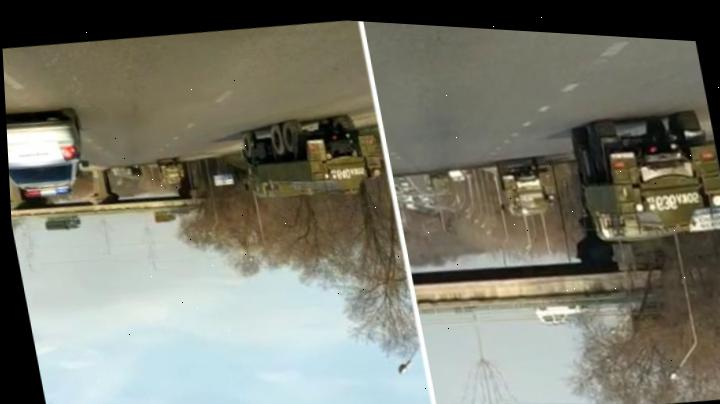car: (5, 104, 84, 202), (531, 296, 589, 329)
truck: (564, 107, 720, 248), (228, 97, 393, 213), (487, 154, 558, 221), (41, 209, 86, 235), (155, 156, 189, 188)
